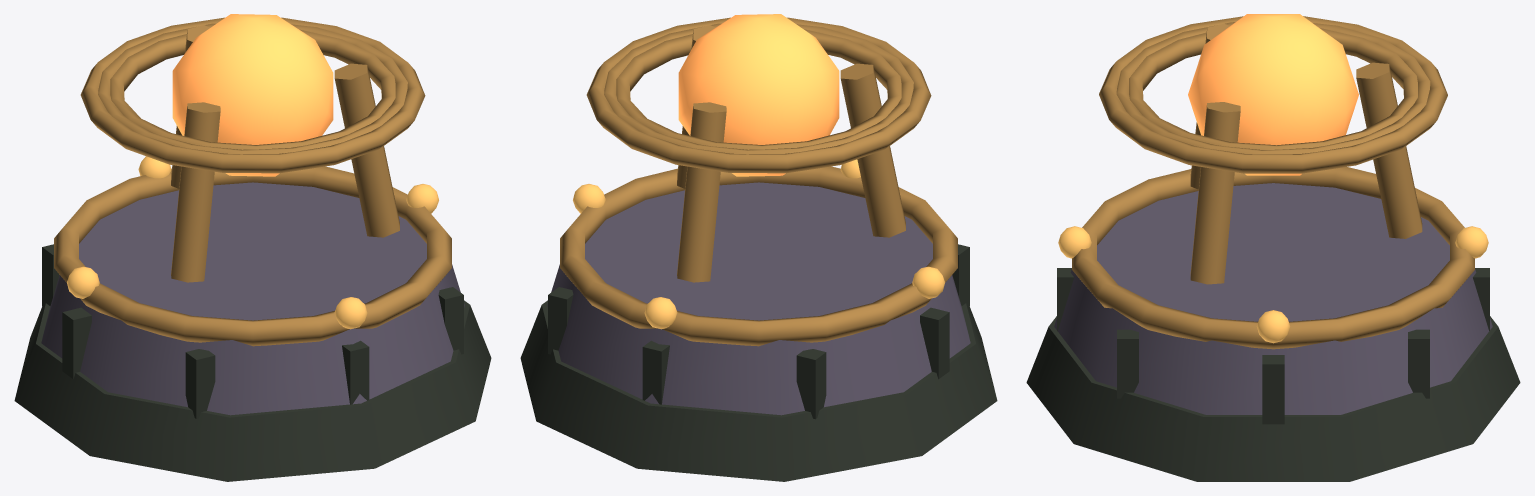
Rendered from tower_meteor_meteorForge.glb.
The picture shows the model from 3 angles, left to right: view 1: azimuth 30°, elevation 25°; view 2: azimuth 150°, elevation 25°; view 3: azimuth 270°, elevation 25°; orthographic projection.
Parts seen in each view (by area): view 1: stone_1, foot_0, rim_2, meteor_18, armillary_21, armillary_19, claw_17, claw_16, armillary_20, mortar_6, mortar_7, mortar_5 (+7 smaller); view 2: stone_1, foot_0, rim_2, meteor_18, armillary_21, armillary_19, claw_15, claw_17, armillary_20, mortar_8, mortar_7, mortar_9 (+5 smaller); view 3: stone_1, foot_0, rim_2, meteor_18, armillary_21, armillary_19, claw_16, claw_15, armillary_20, mortar_3, mortar_4, mortar_10 (+5 smaller).
Part boxes in pixels (x1,y1,x2,y2): stone_1: [41, 182, 464, 415]; foot_0: [14, 300, 491, 481]; rim_2: [54, 166, 451, 346]; meteor_18: [172, 14, 333, 176]; armillary_21: [80, 17, 425, 173]; armillary_19: [110, 29, 395, 149]; claw_17: [171, 102, 220, 282]; claw_16: [334, 63, 399, 237]; armillary_20: [98, 23, 407, 154]; mortar_6: [185, 349, 215, 419]; mortar_7: [62, 307, 91, 379]; mortar_5: [342, 340, 369, 404]; stone_1: [547, 182, 970, 415]; foot_0: [520, 300, 997, 481]; rim_2: [560, 166, 957, 346]; meteor_18: [678, 14, 839, 176]; armillary_21: [586, 17, 931, 173]; armillary_19: [616, 29, 901, 149]; claw_15: [677, 102, 726, 282]; claw_17: [840, 63, 905, 237]; armillary_20: [604, 23, 913, 154]; mortar_8: [796, 349, 826, 419]; mortar_7: [920, 307, 949, 379]; mortar_9: [642, 340, 669, 404]; stone_1: [1054, 183, 1492, 414]; foot_0: [1026, 316, 1520, 481]; rim_2: [1072, 167, 1474, 349]; meteor_18: [1188, 14, 1358, 175]; armillary_21: [1099, 16, 1447, 173]; armillary_19: [1129, 28, 1417, 149]; claw_16: [1190, 102, 1240, 284]; claw_15: [1356, 62, 1422, 238]; armillary_20: [1116, 22, 1430, 154]; mortar_3: [1262, 355, 1284, 424]; mortar_4: [1117, 329, 1138, 398]; mortar_10: [1408, 329, 1429, 398].
Bounding box in the file's own units: 0.5326 × 0.457 × 0.56.
